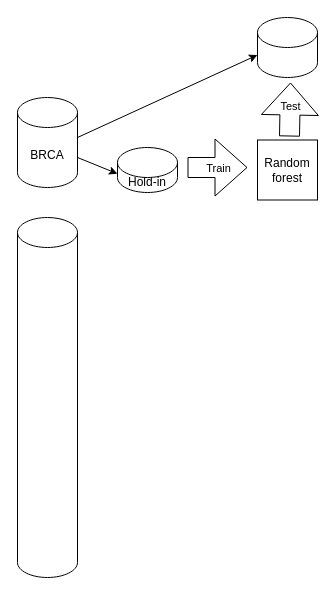
Image size: 336x595. Some labels were removed from this diagram. Here are the shapes that lost their labels. From the top down, the box of each, then its label:
(256, 16, 318, 78): Hold-out
(16, 216, 78, 578): TCGA
